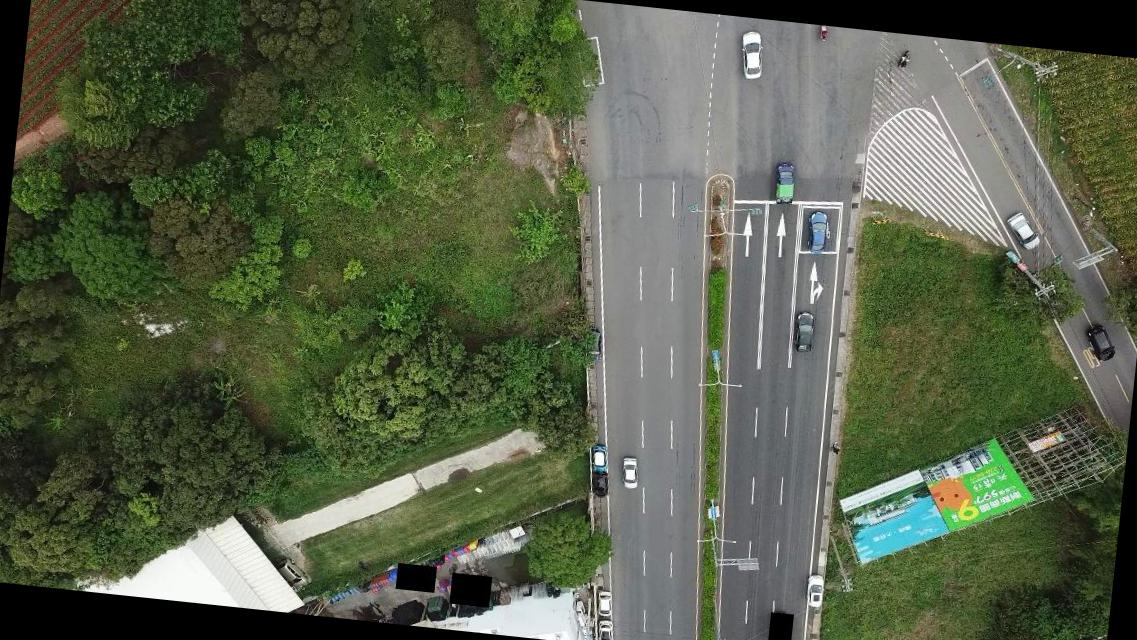vehicle: (1001, 211, 1044, 253), (736, 29, 769, 82), (274, 555, 312, 589), (1084, 322, 1116, 362), (804, 210, 830, 256), (792, 308, 817, 352), (772, 162, 796, 206), (804, 574, 828, 610), (620, 456, 643, 490), (589, 444, 610, 475), (593, 588, 614, 618), (590, 470, 610, 501), (594, 616, 618, 639)
